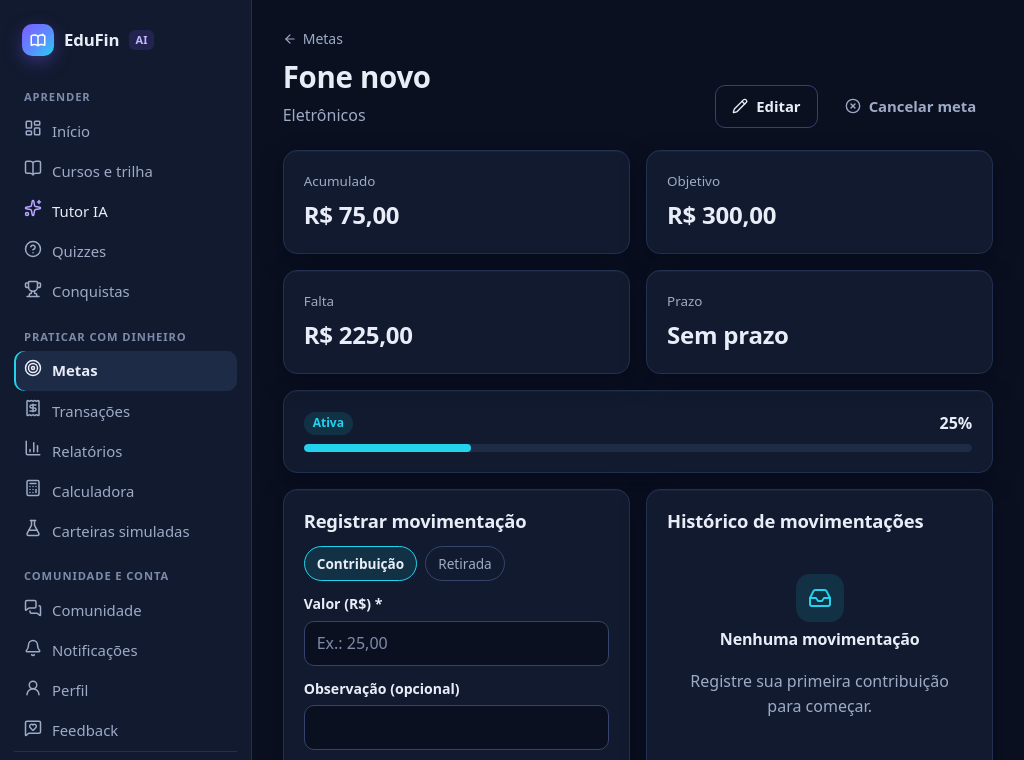
Test: metas › pede confirmação antes de cancelar uma meta
Click the button "Cancelar meta". click: (910, 106)
box: [828,85,993,128]
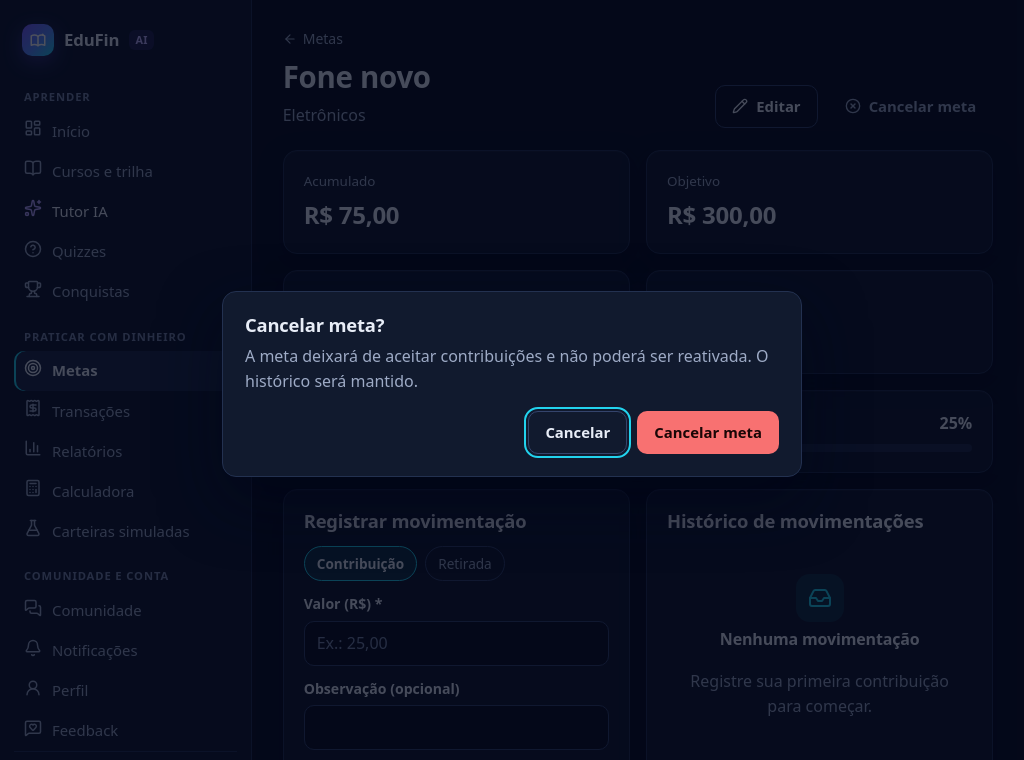
Click the button "Cancelar meta". click: (708, 433)
box: [637,411,779,454]
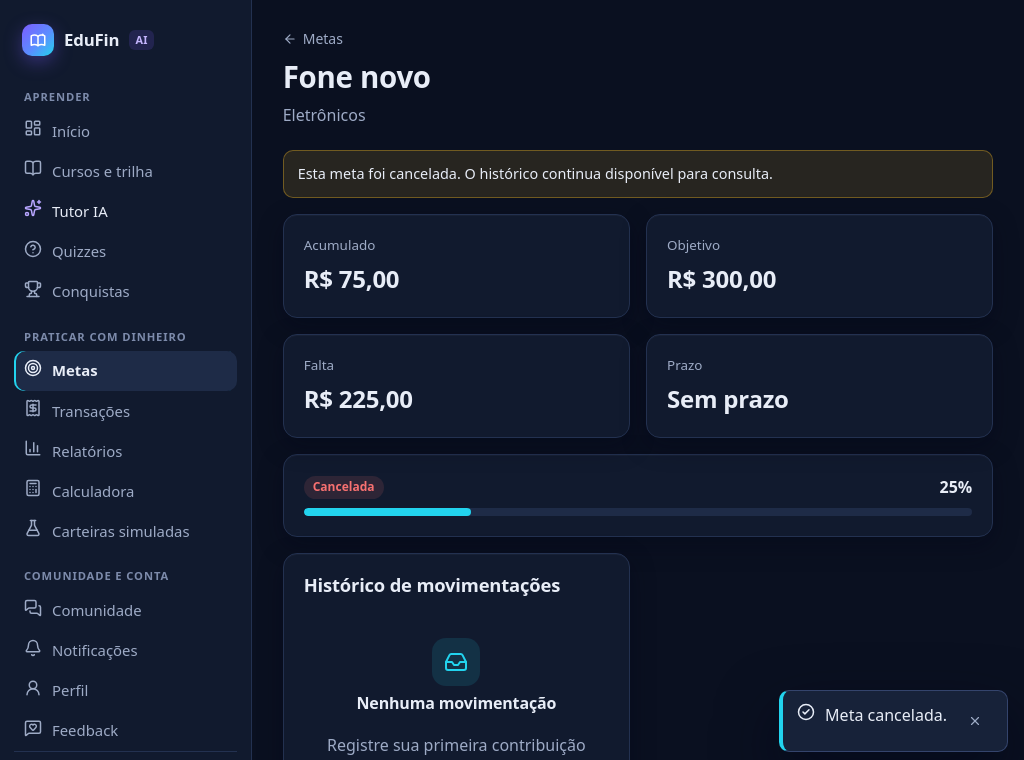
Now the text "Esta meta foi cancelada" is shown, box [298,164,773,183]
